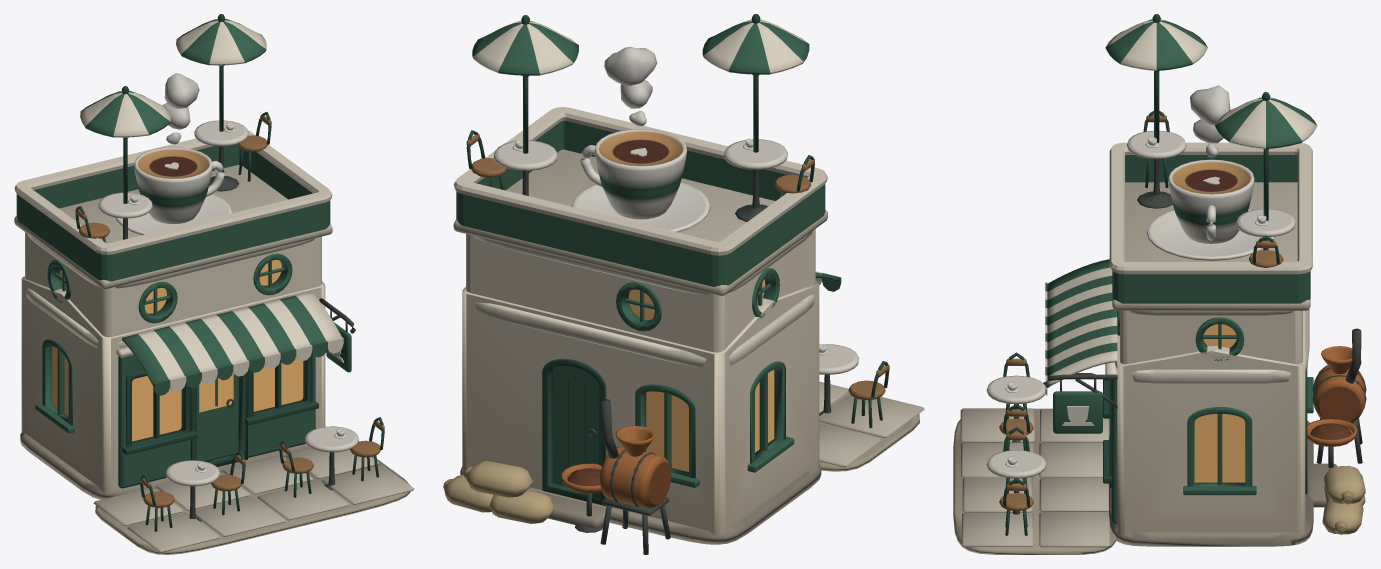
File: BLD_Cafe_A_T3.fbx
3 renders of one model, left to right at view 1: azimuth 30°, elevation 25°; view 2: azimuth 150°, elevation 25°; view 3: azimuth 270°, elevation 25°, orthographic. The views are drawn at different scales.
Visible parts, largest first — view 1: BLD_Cafe_A_T3_Body_LOD0, BLD_Cafe_A_T3_Puff3_LOD0, BLD_Cafe_A_T3_Sign_LOD0; view 2: BLD_Cafe_A_T3_Body_LOD0, BLD_Cafe_A_T3_Puff3_LOD0, BLD_Cafe_A_T3_Puff2_LOD0; view 3: BLD_Cafe_A_T3_Body_LOD0, BLD_Cafe_A_T3_Sign_LOD0, BLD_Cafe_A_T3_Puff3_LOD0.
Part boxes in pixels (x1=…): BLD_Cafe_A_T3_Body_LOD0: x1=14, y1=14, x2=414, y2=554; BLD_Cafe_A_T3_Puff3_LOD0: x1=164, y1=73, x2=199, y2=108; BLD_Cafe_A_T3_Sign_LOD0: x1=326, y1=310, x2=351, y2=372; BLD_Cafe_A_T3_Body_LOD0: x1=443, y1=14, x2=924, y2=554; BLD_Cafe_A_T3_Puff3_LOD0: x1=604, y1=46, x2=657, y2=85; BLD_Cafe_A_T3_Puff2_LOD0: x1=620, y1=80, x2=652, y2=108; BLD_Cafe_A_T3_Body_LOD0: x1=953, y1=14, x2=1366, y2=554; BLD_Cafe_A_T3_Sign_LOD0: x1=1053, y1=379, x2=1102, y2=433; BLD_Cafe_A_T3_Puff3_LOD0: x1=1190, y1=85, x2=1230, y2=125.
Size of what is drawn, in the model's own units: 3.95 by 5.55 by 4.83.
